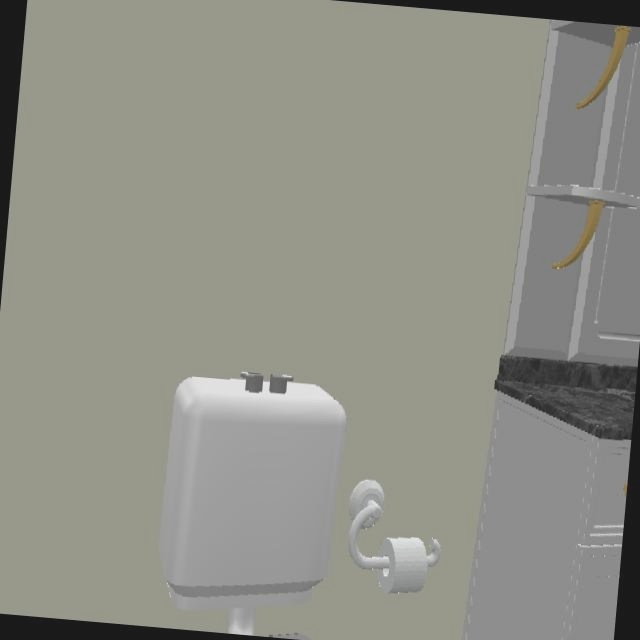toilet: (156, 372, 347, 634)
